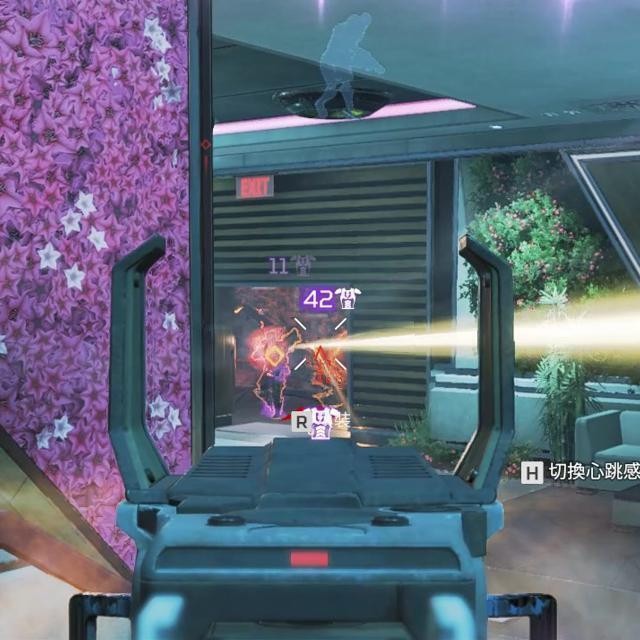avatar: (249, 327, 292, 422)
object: (261, 342, 287, 370)
